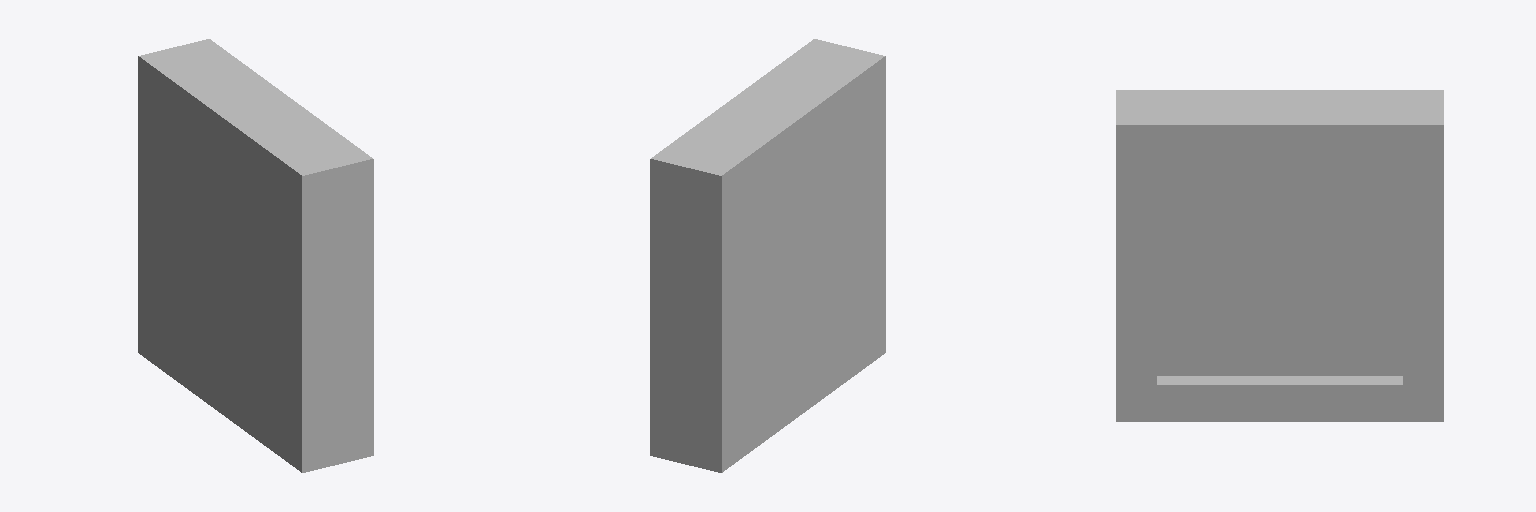
The model's file is window_type3.obj.
3 views of the same model, side by side, from view 1: azimuth 30°, elevation 25°; view 2: azimuth 150°, elevation 25°; view 3: azimuth 270°, elevation 25° (orthographic).
Parts seen in each view (by area): view 1: window; view 2: window; view 3: window.
Boxes of the visible parts, box(x1,y1,x2,y2) form: window: box(138, 39, 373, 472); window: box(650, 39, 885, 472); window: box(1116, 90, 1443, 421).
Size of the model in its own units: 0.5 by 2 by 2.